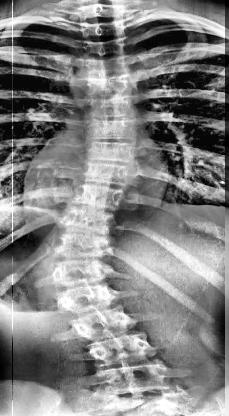Vertebrae: (92, 360, 170, 400), (82, 330, 158, 370), (68, 305, 136, 345), (52, 279, 116, 317), (46, 256, 113, 288), (56, 205, 116, 237), (46, 232, 112, 260), (80, 113, 138, 144), (72, 182, 126, 212), (84, 92, 138, 120), (79, 160, 133, 188), (85, 136, 135, 164), (84, 74, 132, 100), (80, 36, 128, 61), (84, 51, 130, 77), (79, 20, 127, 38)
